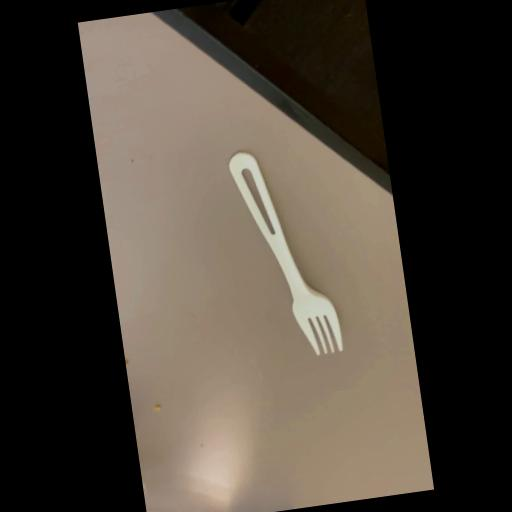utensil: (228, 138, 351, 365)
